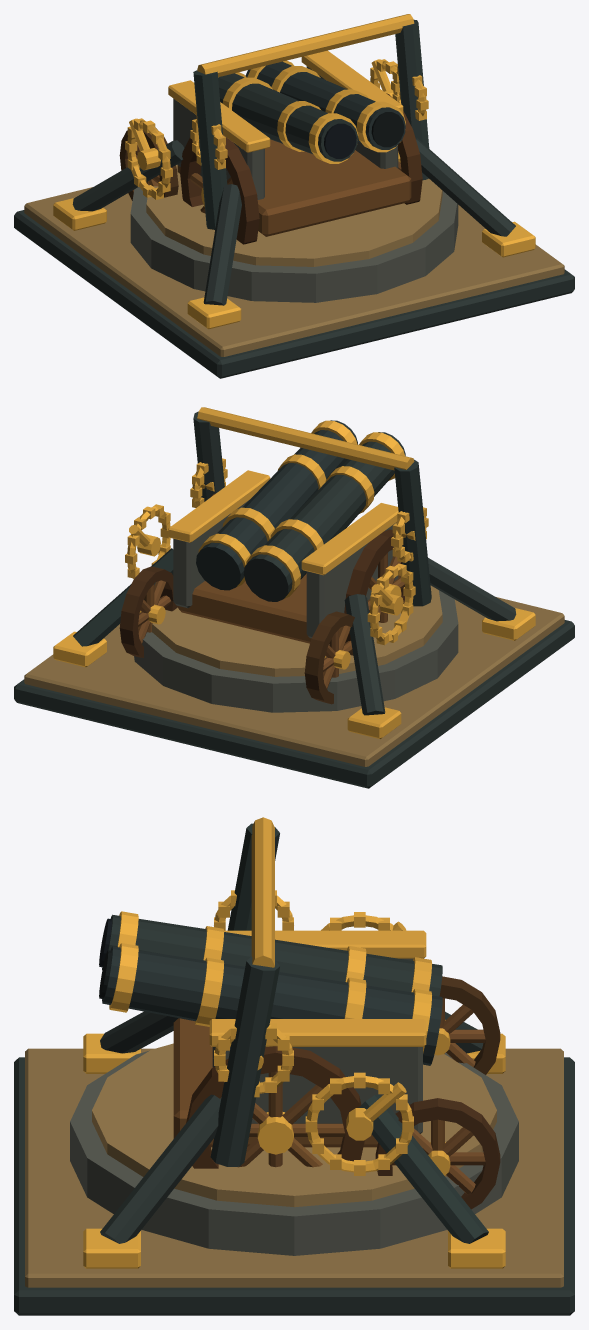
3 renders of one model, top to bottom at view 1: azimuth 30°, elevation 25°; view 2: azimuth 150°, elevation 25°; view 3: azimuth 270°, elevation 25°, orthographic. The views are drawn at different scales.
Visible parts, largest first — view 1: cannon_level7_structure, cannon_level7_metal; view 2: cannon_level7_structure, cannon_level7_metal; view 3: cannon_level7_structure, cannon_level7_metal.
Boxes of the visible parts, x1,y1,x2,y2 form: cannon_level7_structure: (14,19,574,378); cannon_level7_metal: (53,14,535,329); cannon_level7_structure: (14,411,574,788); cannon_level7_metal: (53,407,535,739); cannon_level7_structure: (14,823,574,1315); cannon_level7_metal: (83,817,505,1268).
Size of the model in its own units: 3.6 by 2.22 by 3.6.
